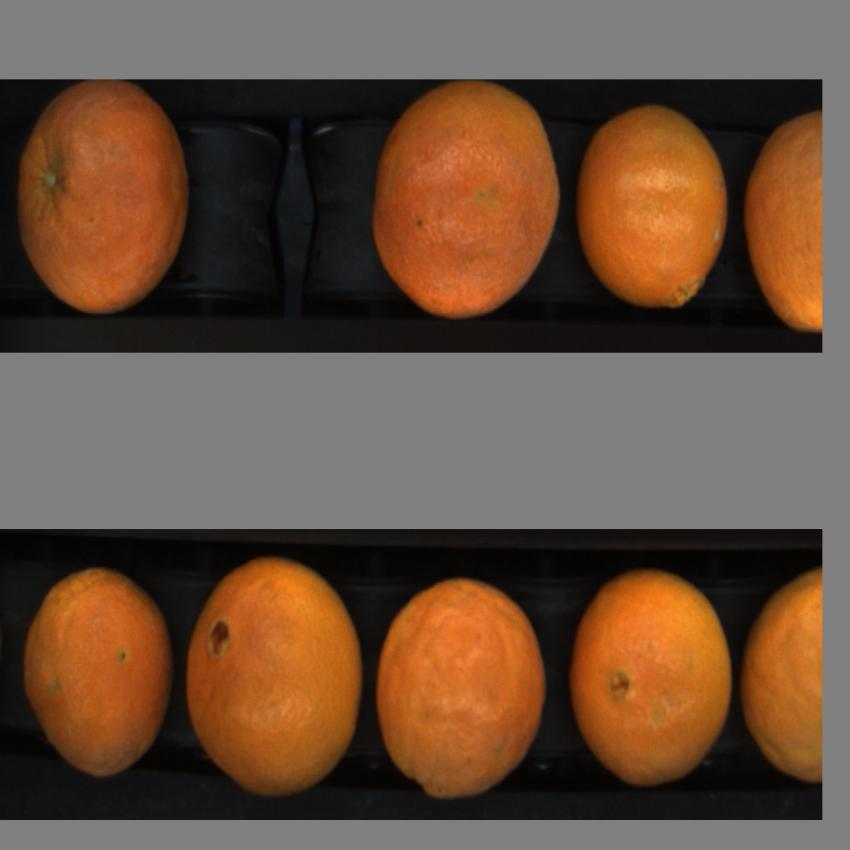Buen estado: (371, 82, 563, 322), (180, 552, 362, 796), (566, 557, 740, 786), (578, 80, 731, 327), (19, 84, 186, 308), (744, 106, 826, 340), (745, 564, 826, 791)
Mal estado: (373, 568, 554, 800), (22, 570, 173, 778)
